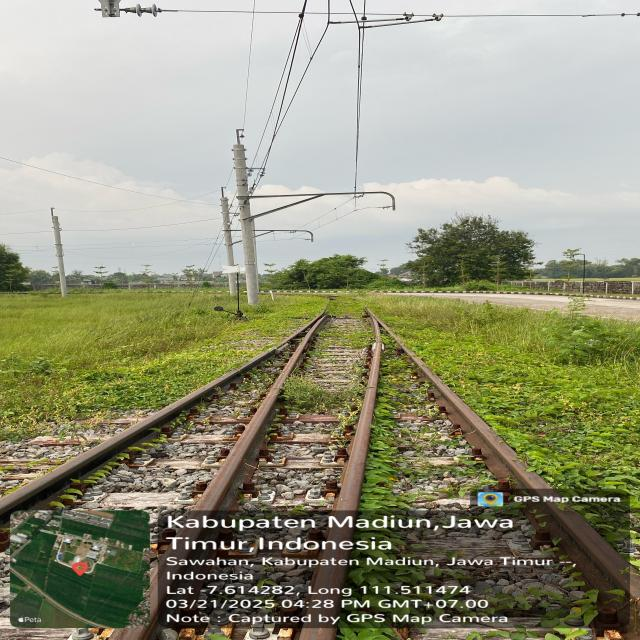rail-detection: (0, 349, 276, 520), (369, 311, 559, 498), (196, 311, 327, 510), (335, 342, 382, 511), (550, 509, 630, 592)
